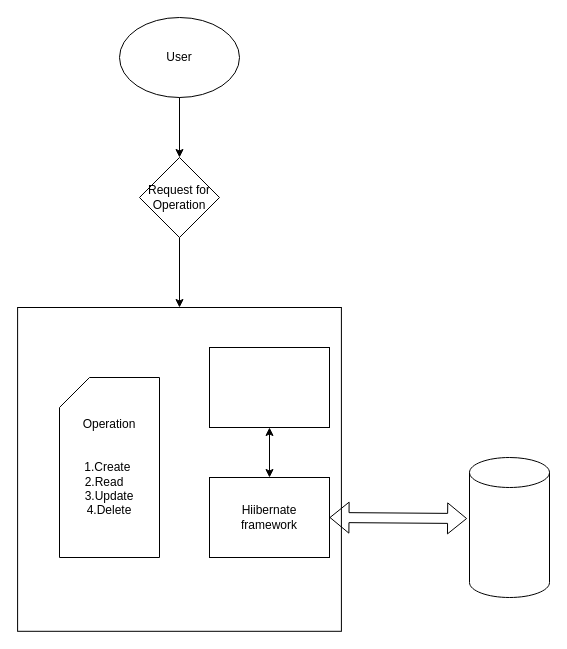
This 567x649 diagram has some shape labels left out. Each missing label, with the centre of its shape:
"Database" goes at point 509,527.
"Spring data JPA" goes at point 269,387.
